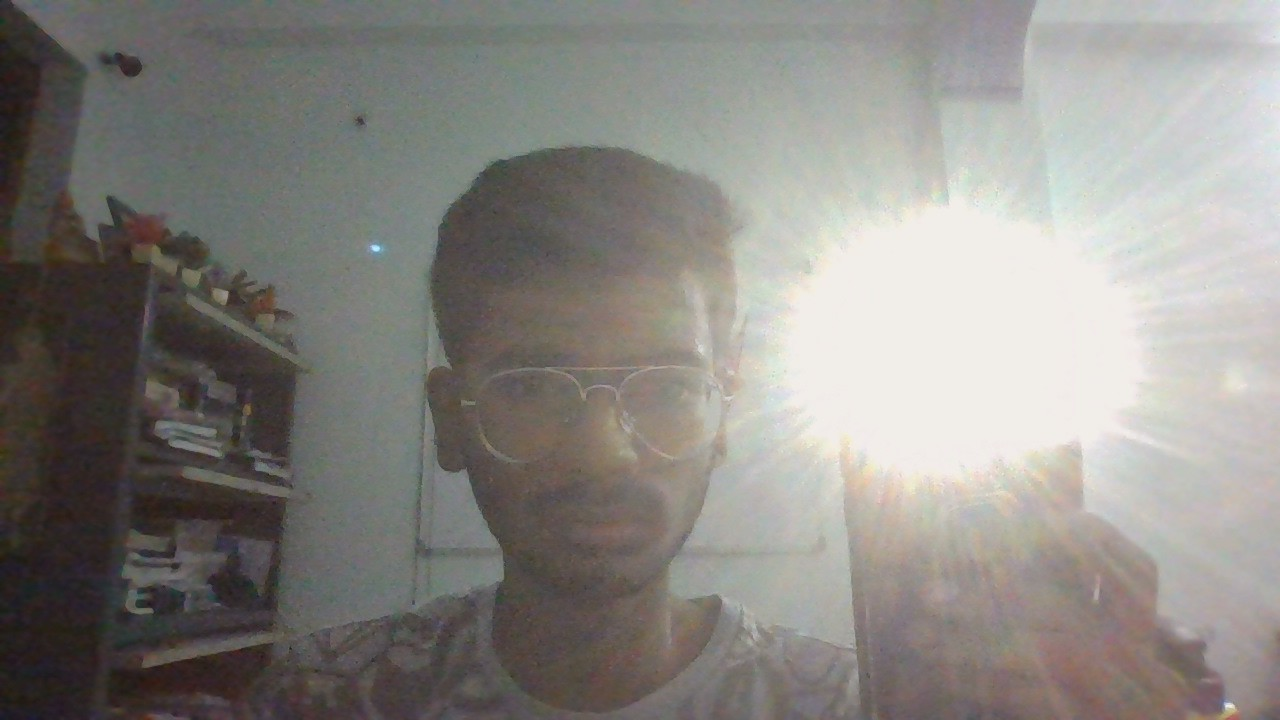Glare: (755, 198, 1151, 487)
